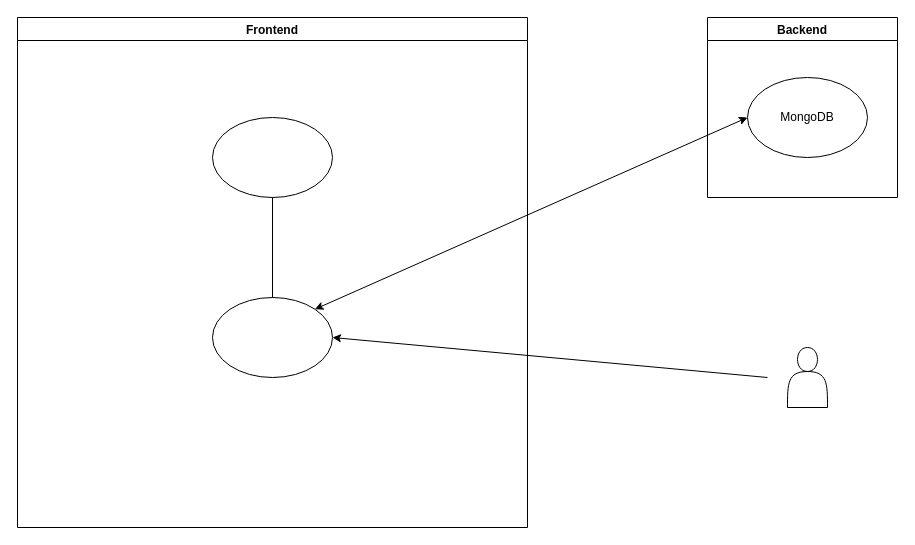
Image size: 915x545. Some labels were removed from this diagram. Each missing label, with the box of its shape:
NgX: (212, 116, 332, 198)
Website: (212, 296, 332, 378)
